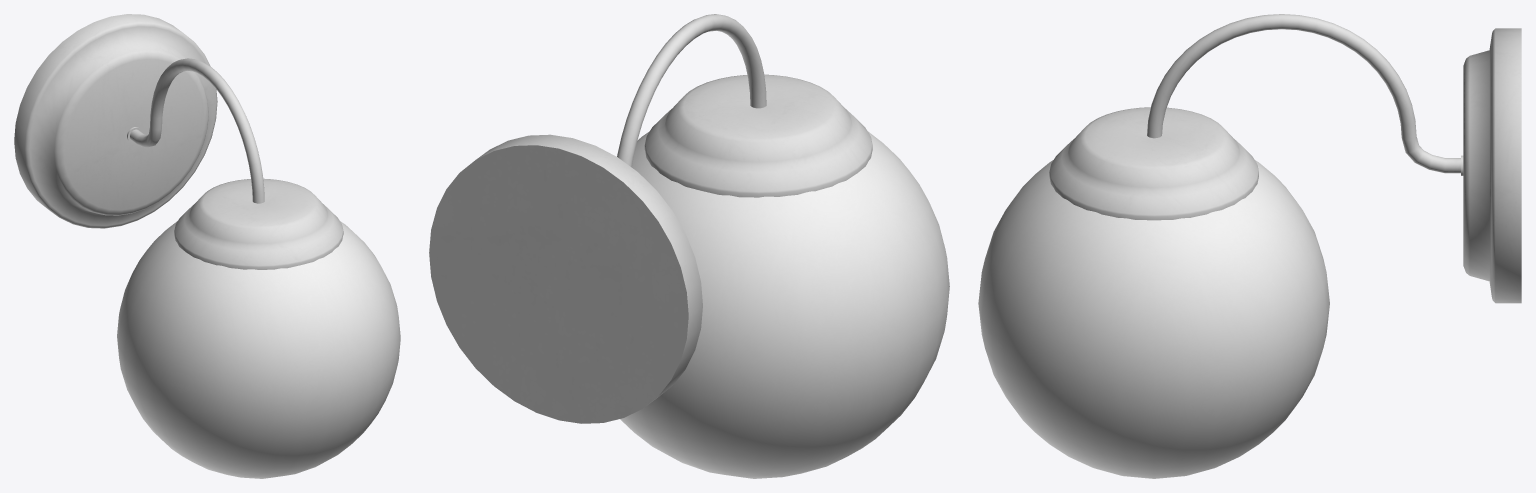
Rendered from WallLamp.obj.
3 views of the same model, side by side, from view 1: azimuth 30°, elevation 25°; view 2: azimuth 150°, elevation 25°; view 3: azimuth 270°, elevation 25° (orthographic). The views are drawn at different scales.
Visible parts, largest first — view 1: WallLamp; view 2: WallLamp; view 3: WallLamp.
Boxes of the visible parts, left/top/right/bottom form: WallLamp: left=14, top=14, right=400, bottom=478; WallLamp: left=429, top=14, right=949, bottom=478; WallLamp: left=978, top=14, right=1521, bottom=478.
Bounding box in the file's own units: 5.91 × 8.3 × 9.12.
